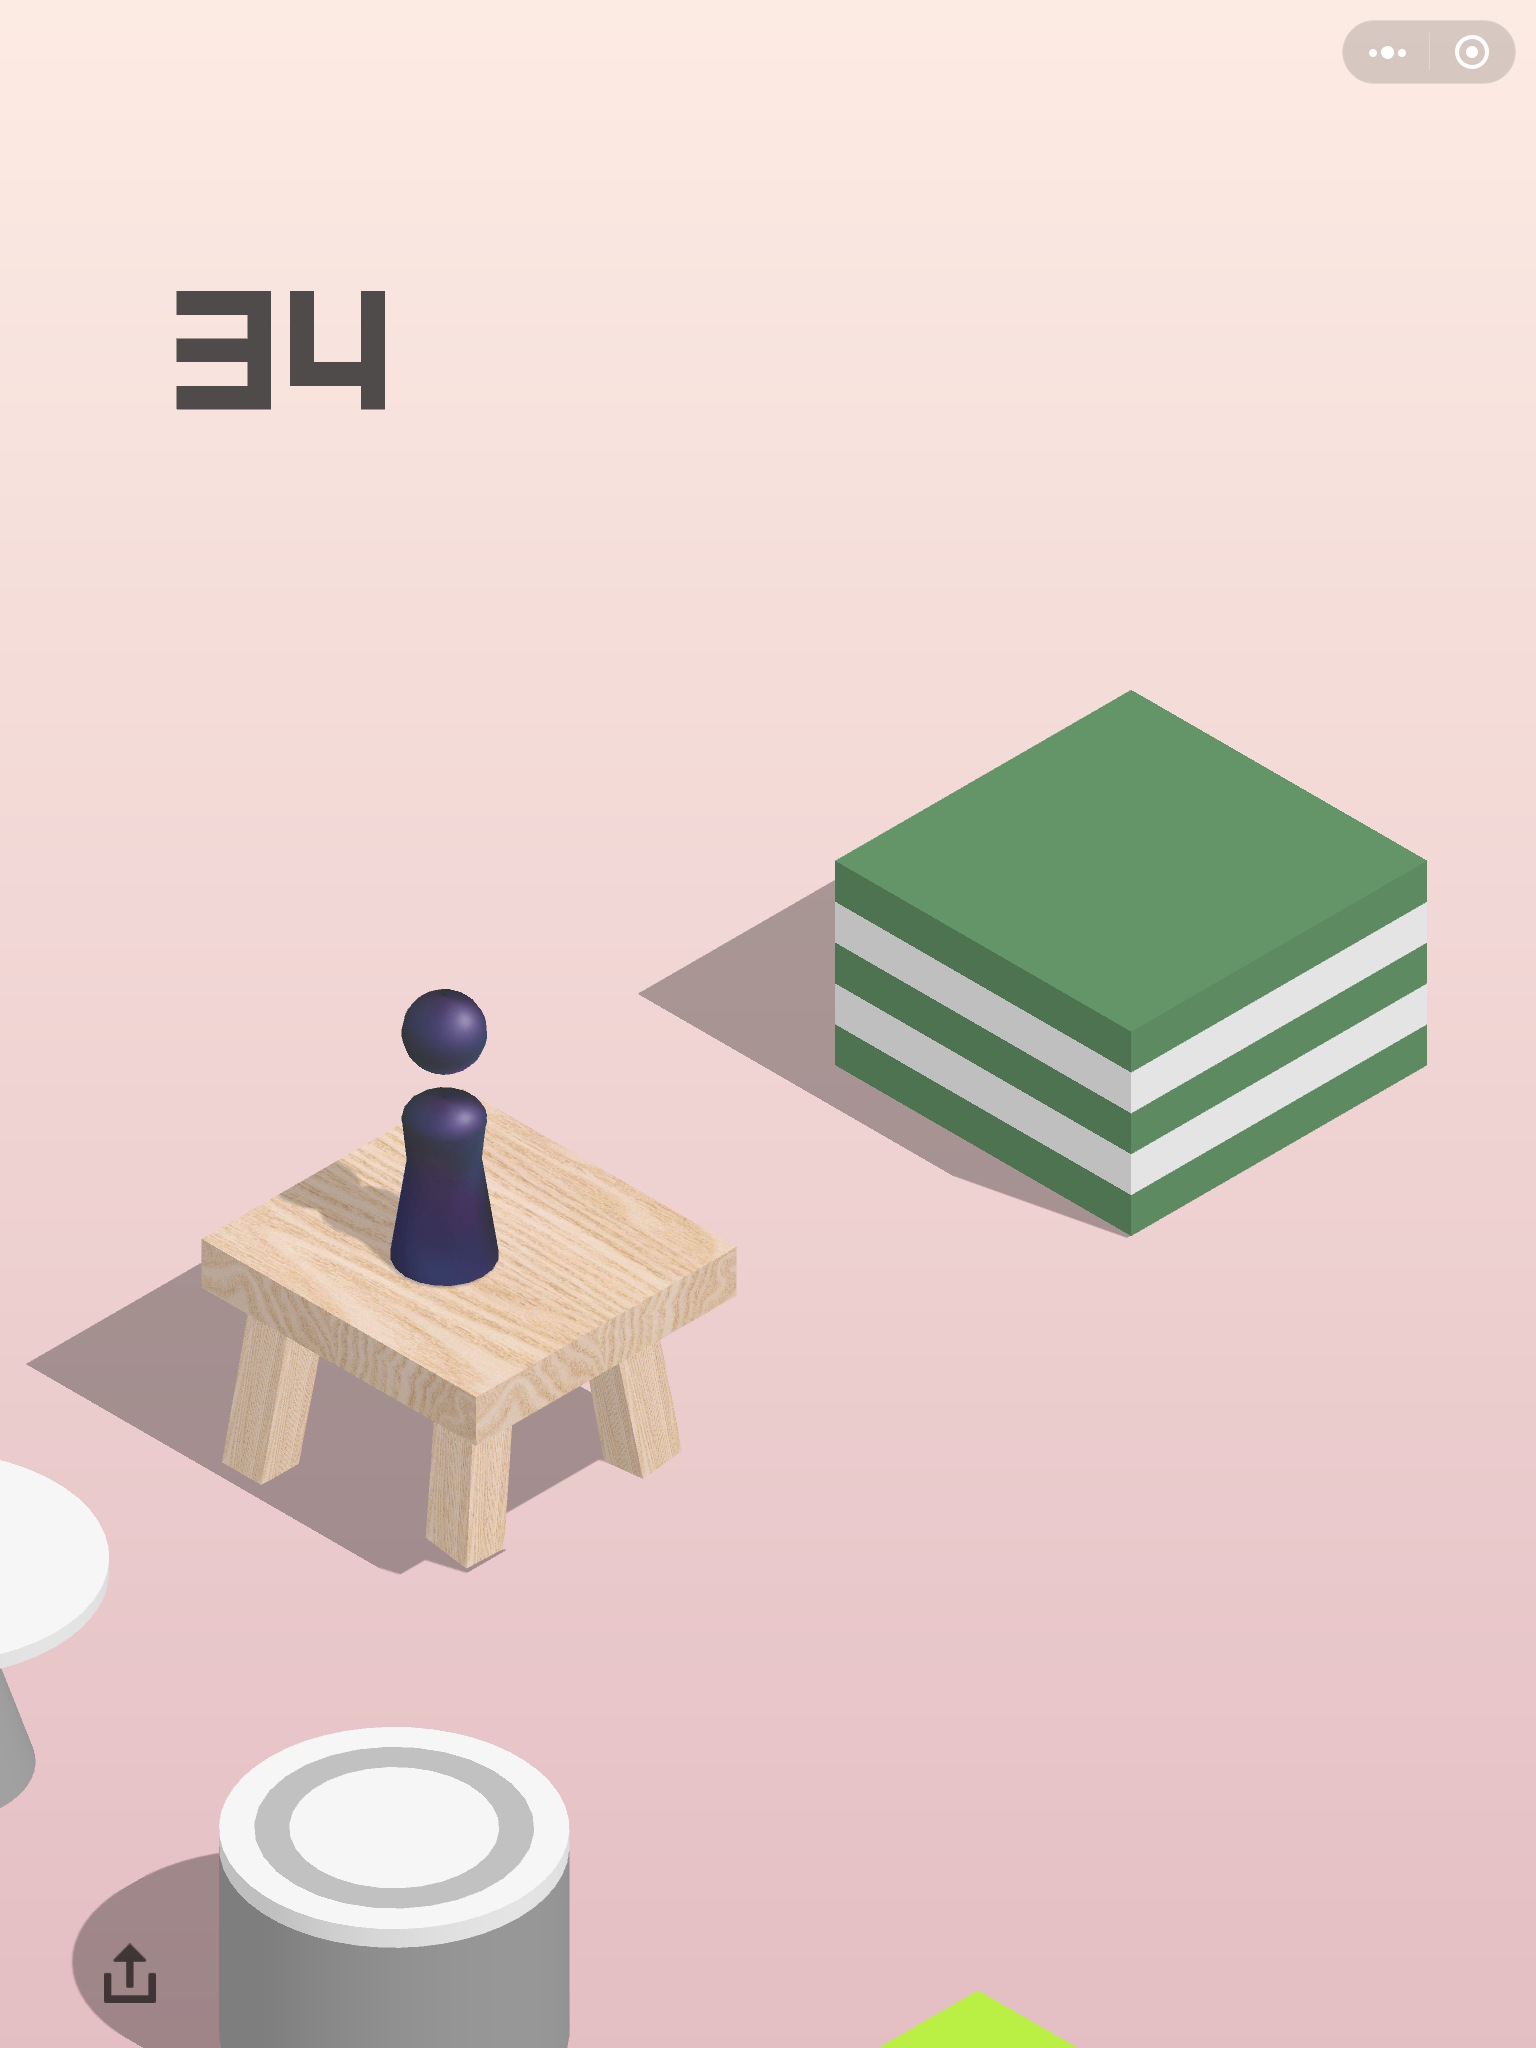c: (215, 1716, 574, 2048)
f: (828, 684, 1433, 1247), (195, 1082, 741, 1576)
r: (386, 979, 503, 1288)
